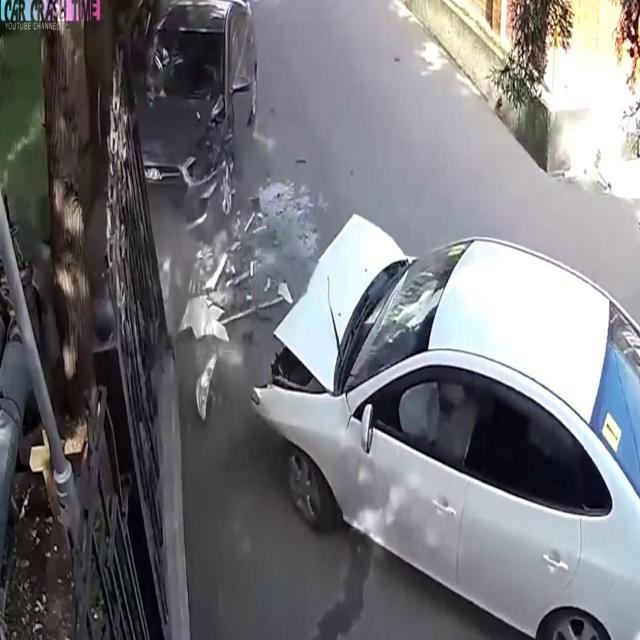accident: (245, 186, 639, 640), (141, 0, 258, 248)
